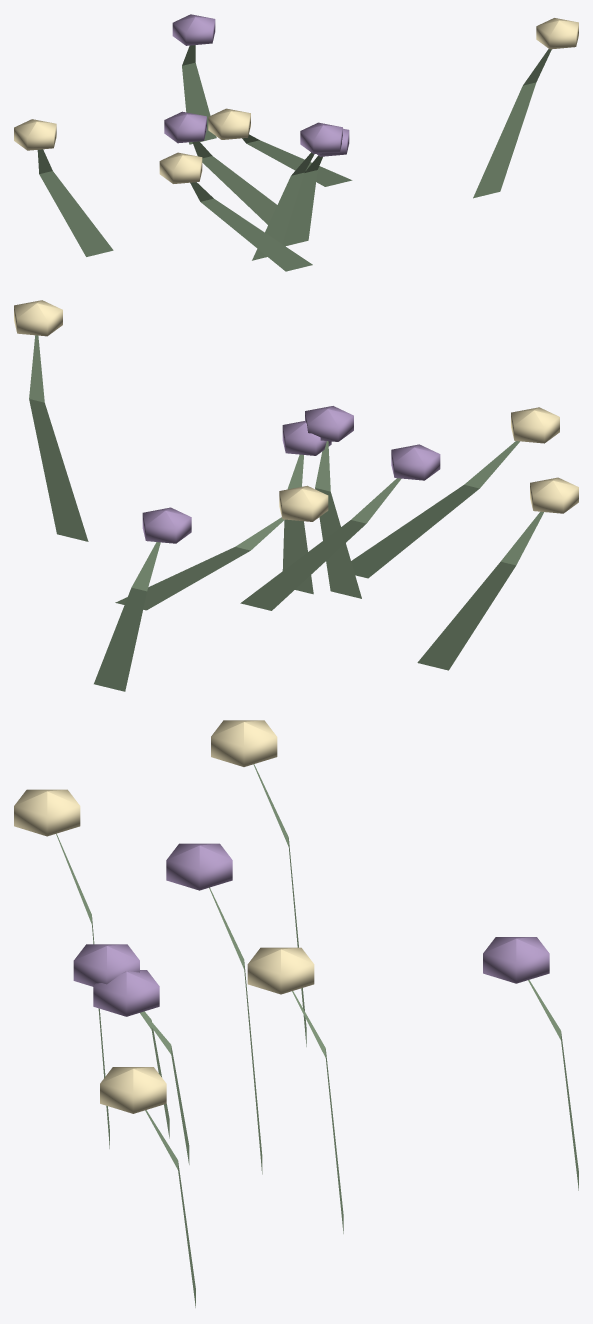
Rendered from wildflowers_variant_02.glb.
The picture shows the model from 3 angles, top to bottom: view 1: azimuth 30°, elevation 25°; view 2: azimuth 150°, elevation 25°; view 3: azimuth 270°, elevation 25°; orthographic projection. The views are drawn at different scales.
Parts seen in each view (by area): view 1: static_leaf_sage, static_flower_cream, static_flower_lilac; view 2: static_leaf_sage, static_flower_cream, static_flower_lilac; view 3: static_flower_cream, static_flower_lilac, static_leaf_sage.
Boxes of the visible parts, left/top/right/bottom form: static_leaf_sage: left=37, top=45, right=551, bottom=271; static_flower_cream: left=14, top=18, right=578, bottom=183; static_flower_lilac: left=164, top=14, right=349, bottom=156; static_leaf_sage: left=29, top=335, right=543, bottom=691; static_flower_cream: left=14, top=300, right=578, bottom=521; static_flower_lilac: left=142, top=406, right=440, bottom=543; static_flower_cream: left=14, top=720, right=314, bottom=1113; static_flower_lilac: left=73, top=843, right=549, bottom=1016; static_leaf_sage: left=56, top=764, right=578, bottom=1307.
Size of the model in its own units: 1.02 by 0.3318 by 0.6312.
